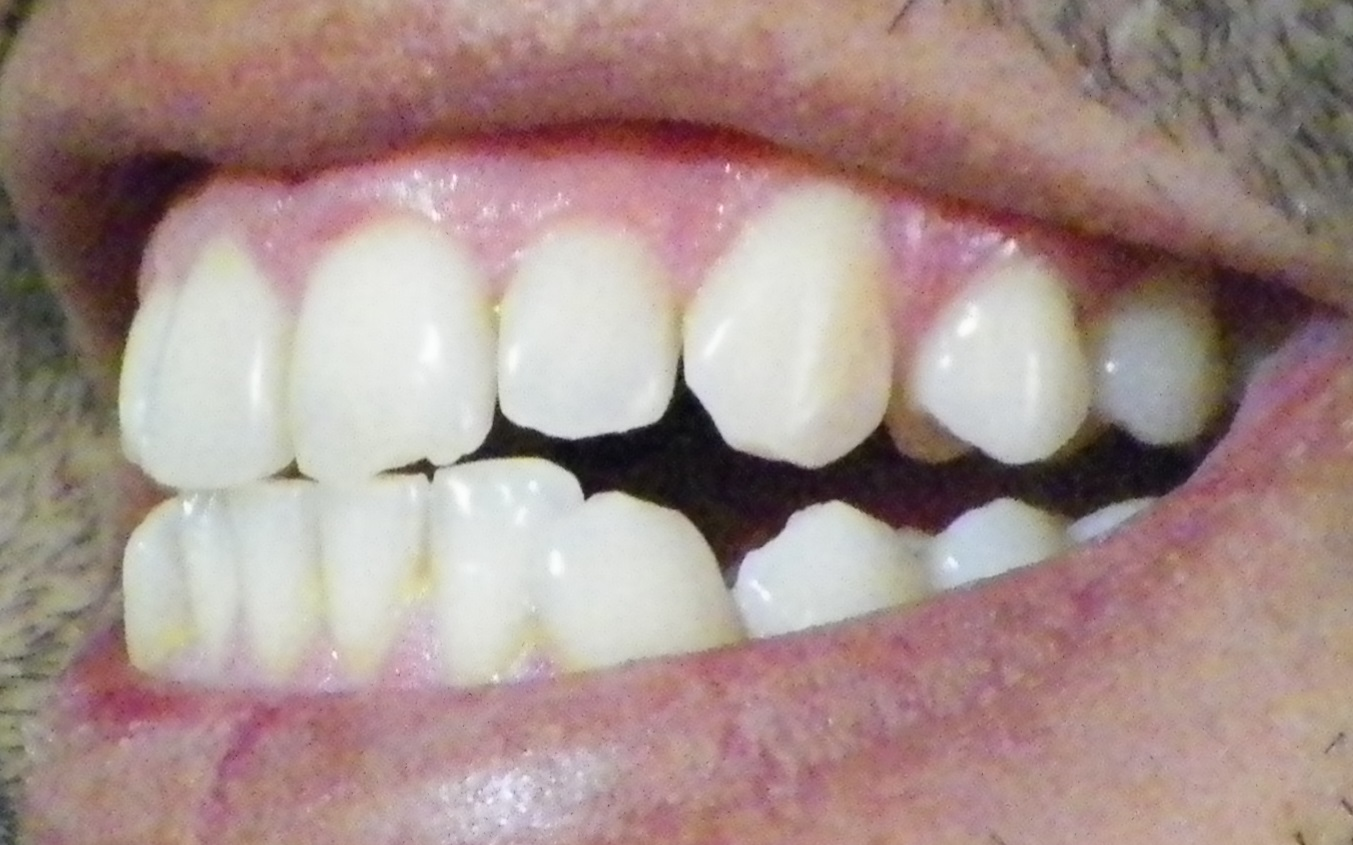boca: (122, 208, 1229, 680)
